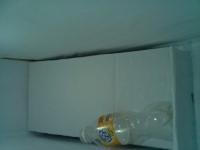bottle: (81, 100, 174, 148)
